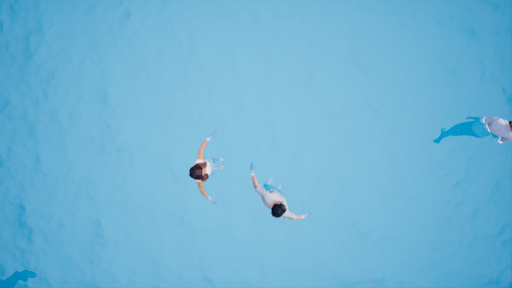person: (249, 162, 312, 224), (183, 128, 226, 204), (431, 110, 512, 147)
